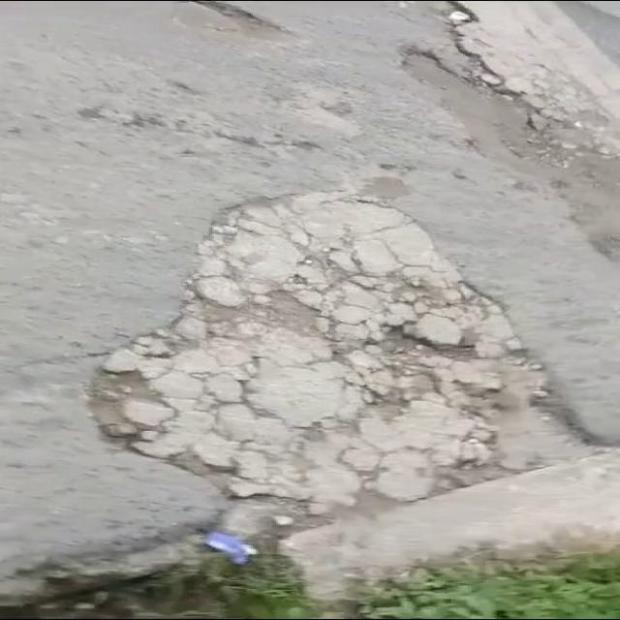lubang: (92, 193, 567, 514), (408, 2, 619, 262), (176, 0, 306, 49)
